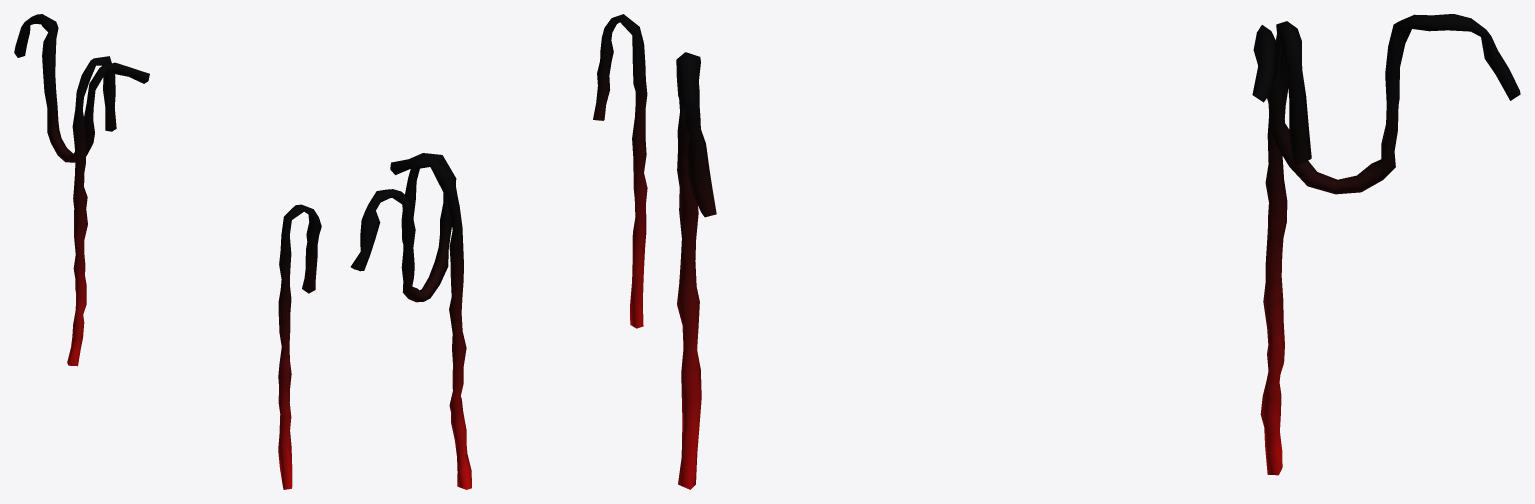
The model's file is SM_Guts_B_Fence_C_06.fbx.
The picture shows the model from 3 angles, left to right: view 1: azimuth 30°, elevation 25°; view 2: azimuth 150°, elevation 25°; view 3: azimuth 270°, elevation 25°; orthographic projection. The views are drawn at different scales.
Visible parts, largest first — view 1: SM_Guts_B_Fence_C_06_LOD0; view 2: SM_Guts_B_Fence_C_06_LOD0; view 3: SM_Guts_B_Fence_C_06_LOD0.
Boxes of the visible parts, x1,y1,x2,y2 form: SM_Guts_B_Fence_C_06_LOD0: (14, 14, 321, 489); SM_Guts_B_Fence_C_06_LOD0: (350, 14, 647, 489); SM_Guts_B_Fence_C_06_LOD0: (676, 14, 1520, 489).
Bounding box in the file's own units: 24.81 × 148 × 92.38.
